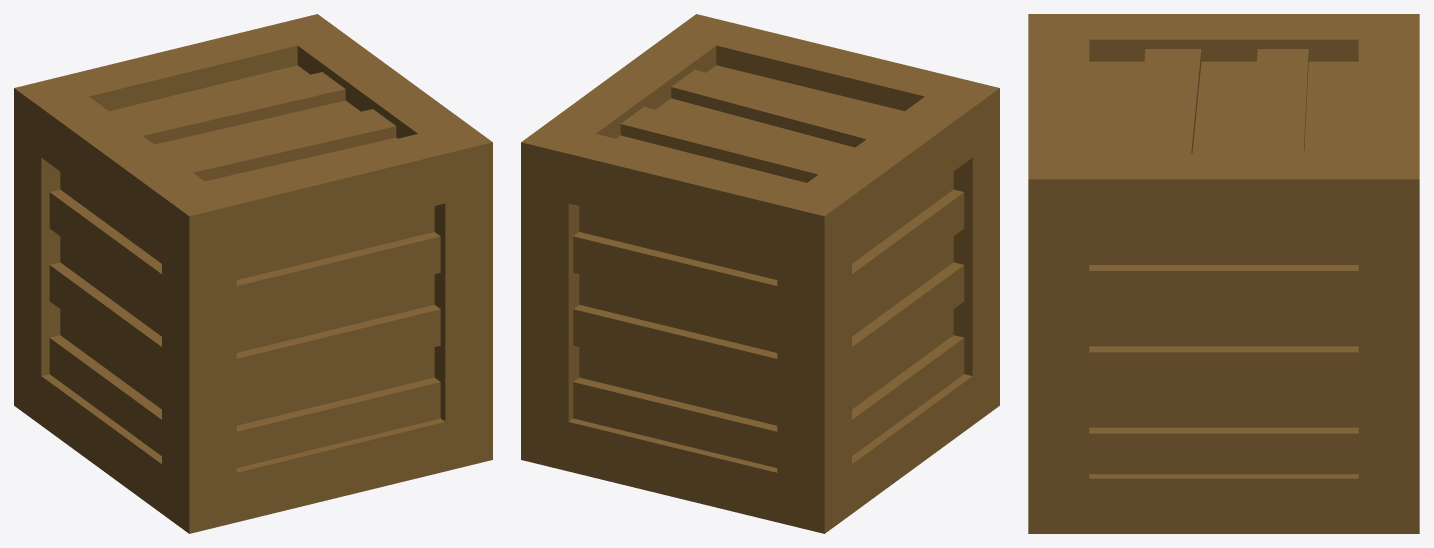
Rendered from Crate.fbx.
3 renders of one model, left to right at view 1: azimuth 30°, elevation 25°; view 2: azimuth 150°, elevation 25°; view 3: azimuth 270°, elevation 25°, orthographic. The views are drawn at different scales.
Visible parts, largest first — view 1: Crate; view 2: Crate; view 3: Crate.
Boxes of the visible parts, left/top/right/bottom form: Crate: left=14, top=14, right=492, bottom=533; Crate: left=521, top=14, right=999, bottom=533; Crate: left=1028, top=14, right=1419, bottom=533.
Size of the model in its own units: 1.68 by 1.68 by 1.68.
